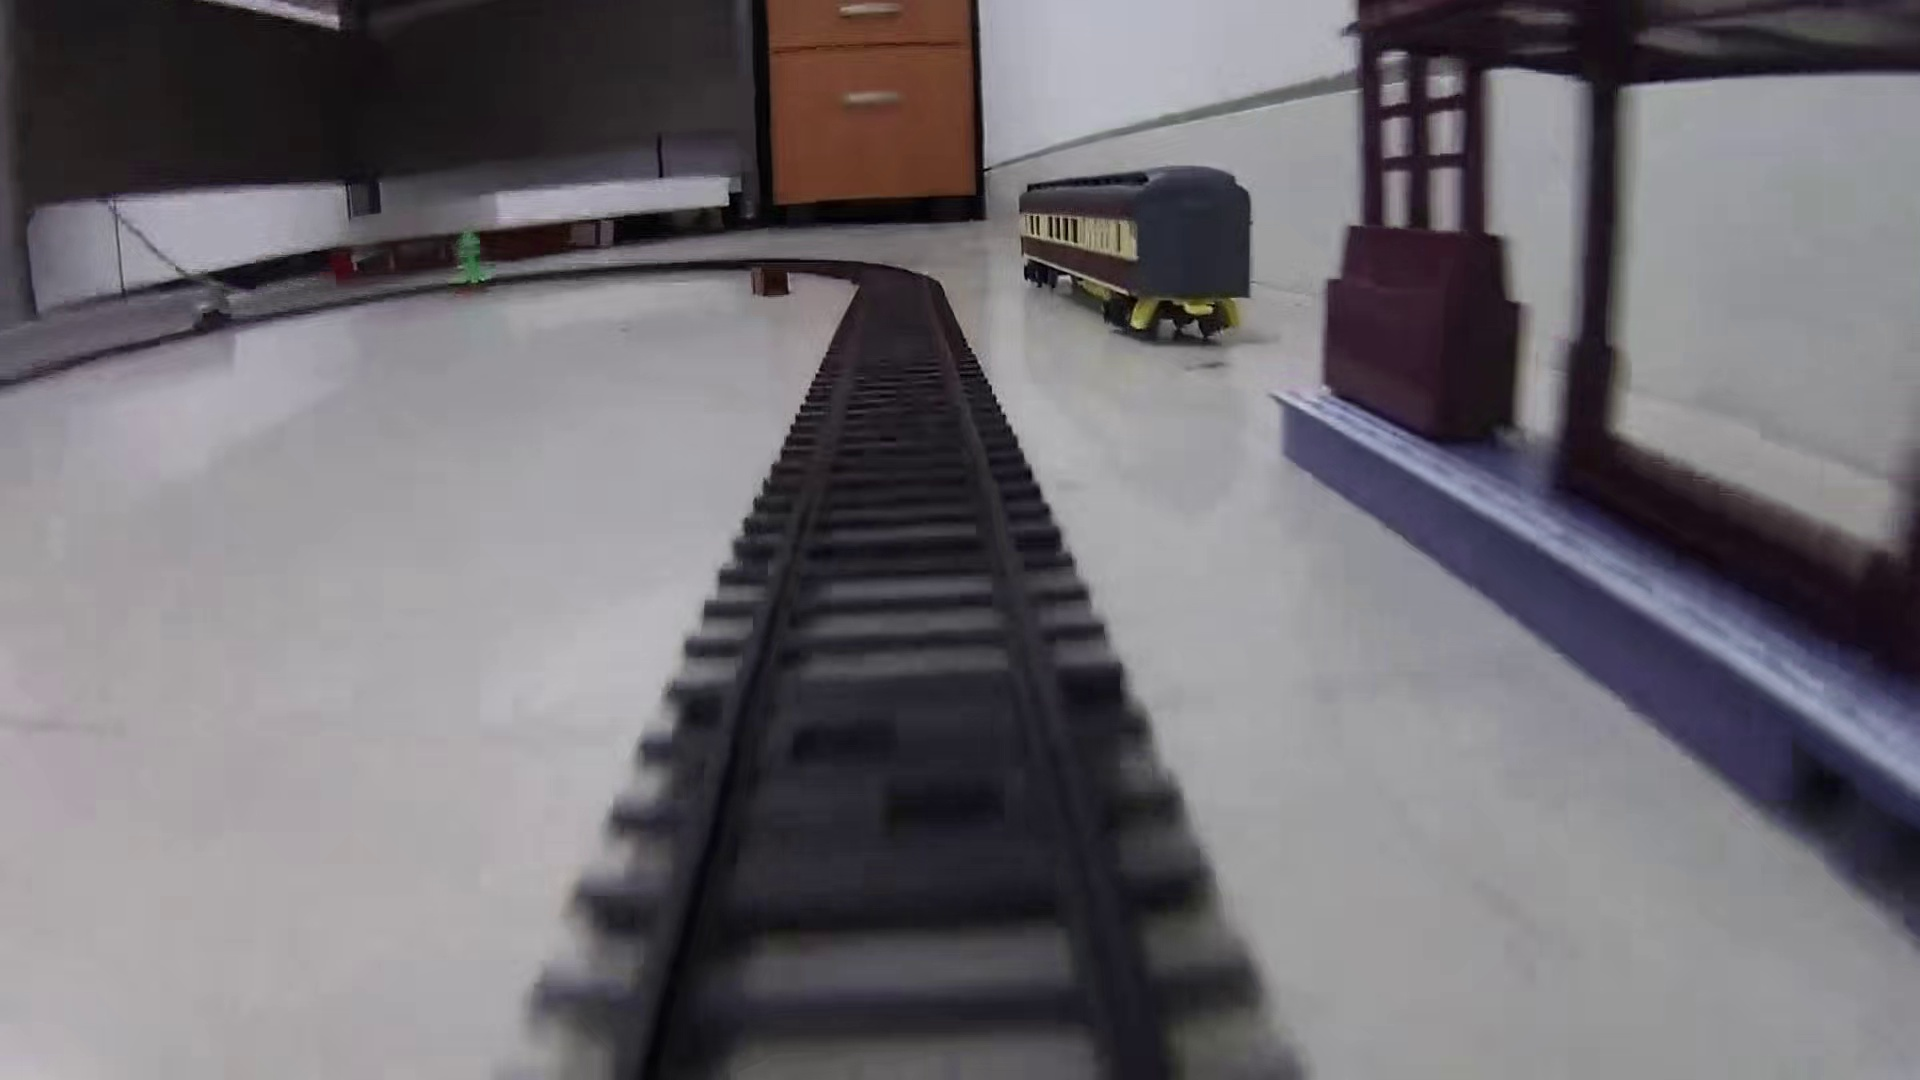box: (748, 262, 794, 300)
tree: (449, 220, 495, 298)
